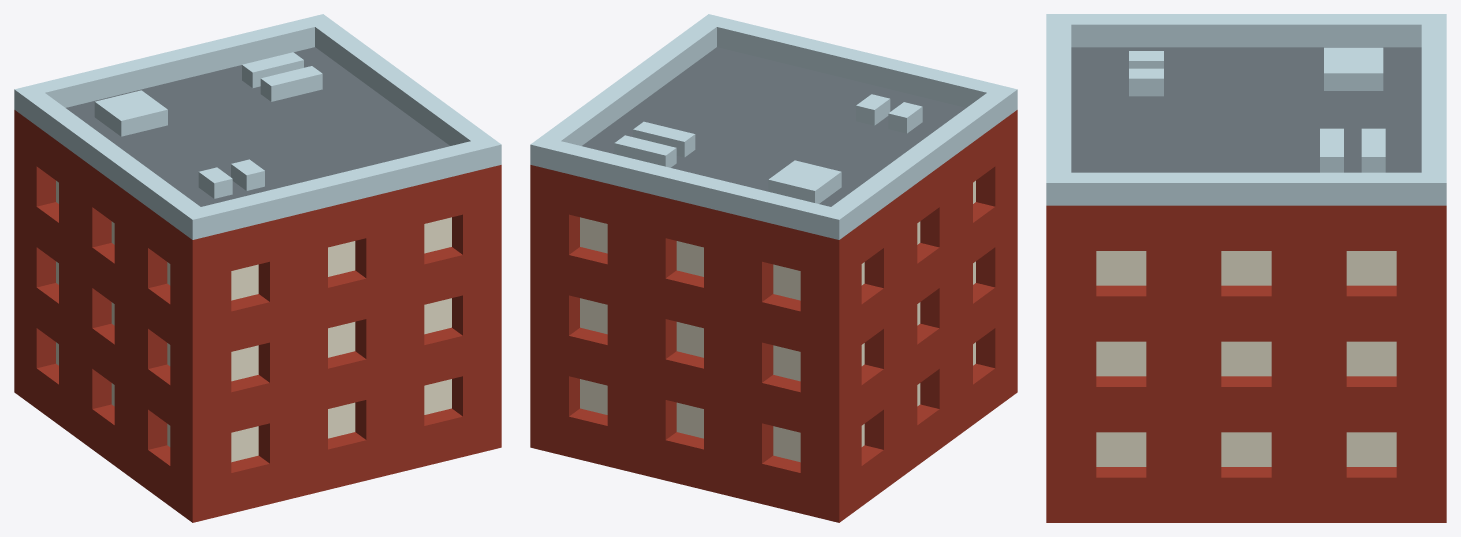
Rendered from Building_2_Extra (Red).obj.
3 views of the same model, side by side, from view 1: azimuth 30°, elevation 25°; view 2: azimuth 150°, elevation 25°; view 3: azimuth 270°, elevation 25° (orthographic). The views are drawn at different scales.
Parts seen in each view (by area): view 1: Building_2_Extra_(Red); view 2: Building_2_Extra_(Red); view 3: Building_2_Extra_(Red).
Part boxes in pixels (x1,y1,x2,y2): Building_2_Extra_(Red): (14, 14, 501, 522); Building_2_Extra_(Red): (530, 14, 1017, 522); Building_2_Extra_(Red): (1046, 14, 1446, 522).
Bounding box in the file's own units: 1.6 × 1.5 × 1.6.
